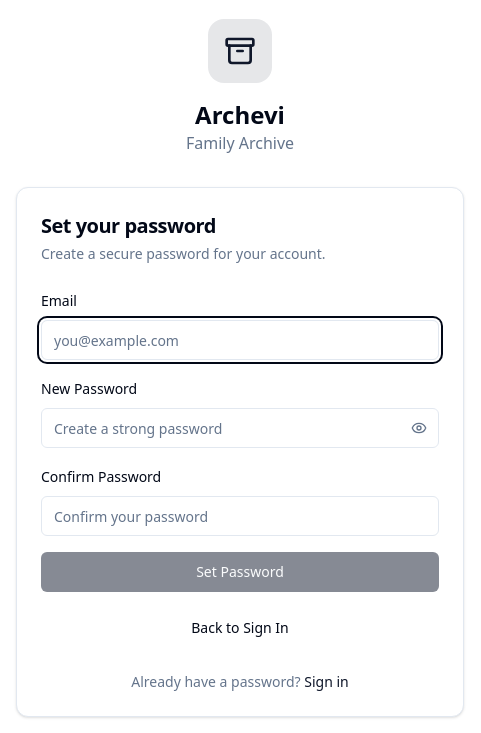
it: SetPasswordPage › displays error when password set fails
The width and height of the screenshot is (481, 733).
Type "test@example.com" into the field labelled "Email" at (240, 340), box x1=41 y1=320 x2=439 y2=360
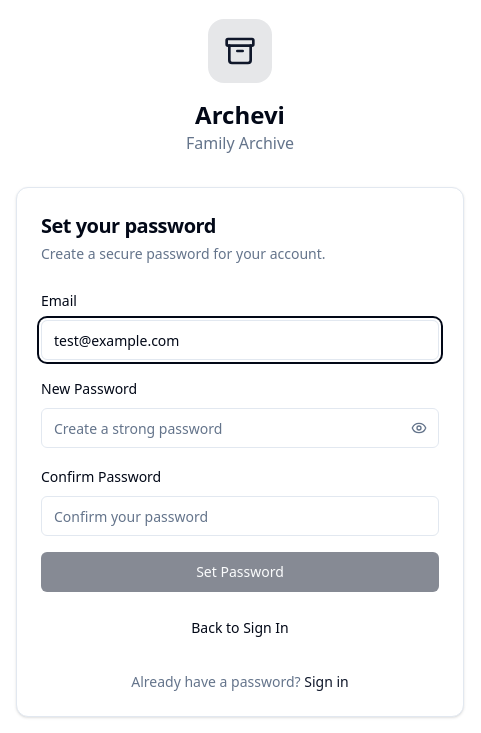
Type "StrongPass1" into the password field labelled "New Password" at (240, 428), box x1=41 y1=408 x2=439 y2=448
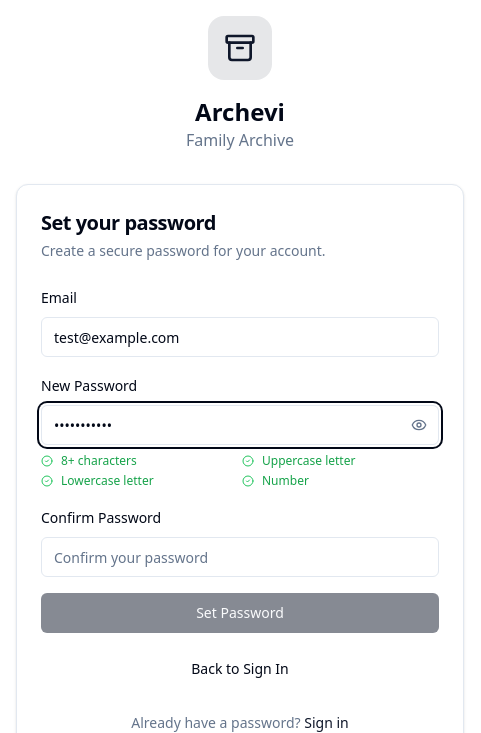
Type "StrongPass1" into the password field labelled "Confirm Password" at (240, 557), box x1=41 y1=537 x2=439 y2=577
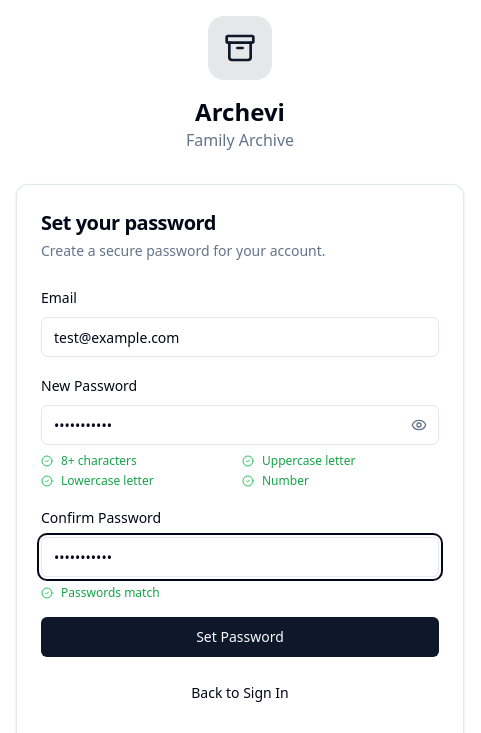
Click the button "Set Password" at (240, 637), box x1=41 y1=617 x2=439 y2=657
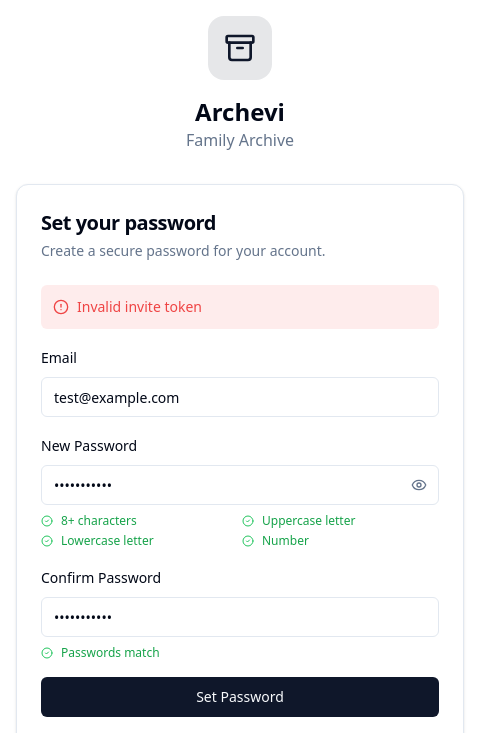
Now the text "Invalid invite token" is shown, box x1=77 y1=297 x2=202 y2=317
